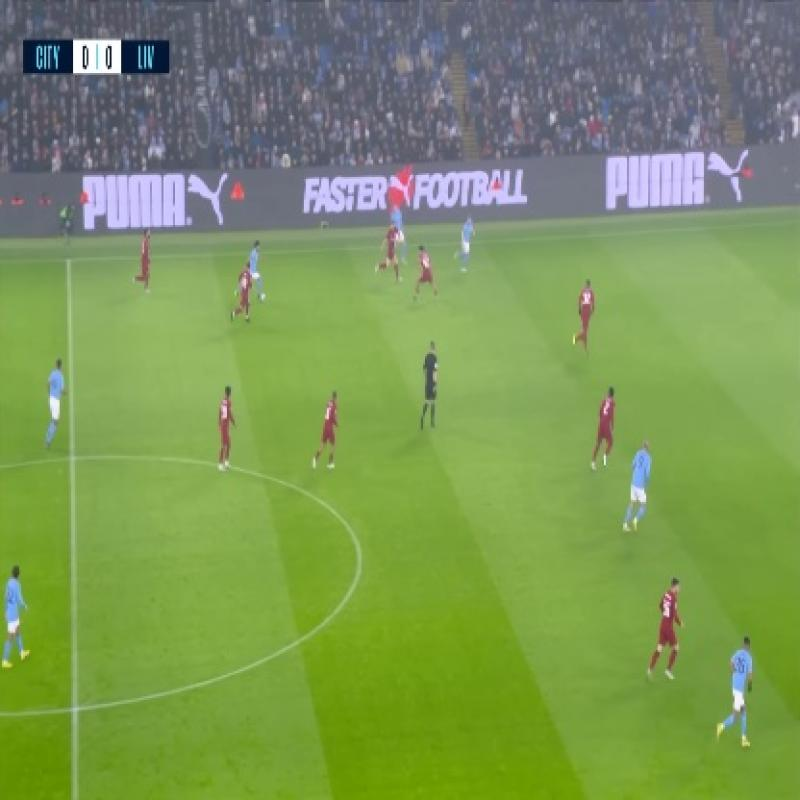13: (57, 248, 82, 277)
14: (55, 435, 84, 475)
15: (57, 683, 92, 729)
c: (340, 519, 380, 576)
